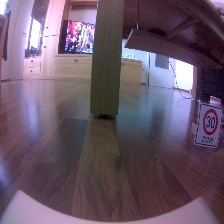dreisiger_zone: (193, 103, 222, 150)
